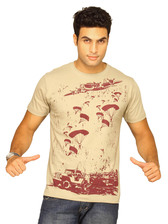clothoes: (23, 59, 148, 207)
